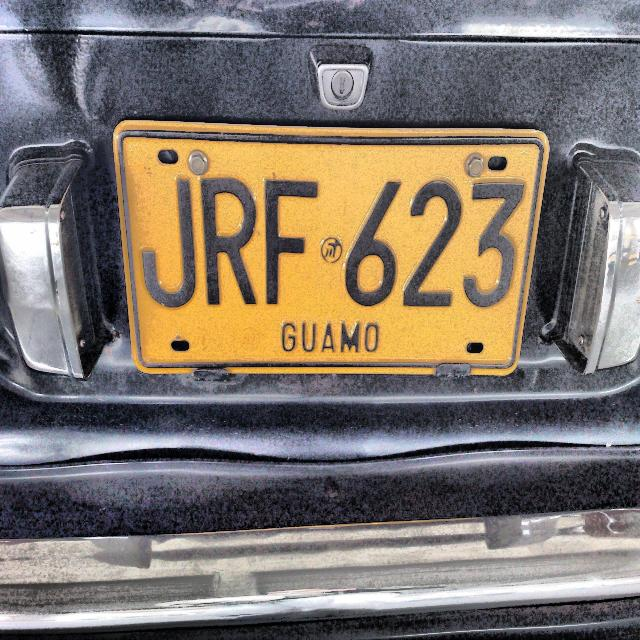plate: (116, 130, 544, 368)
